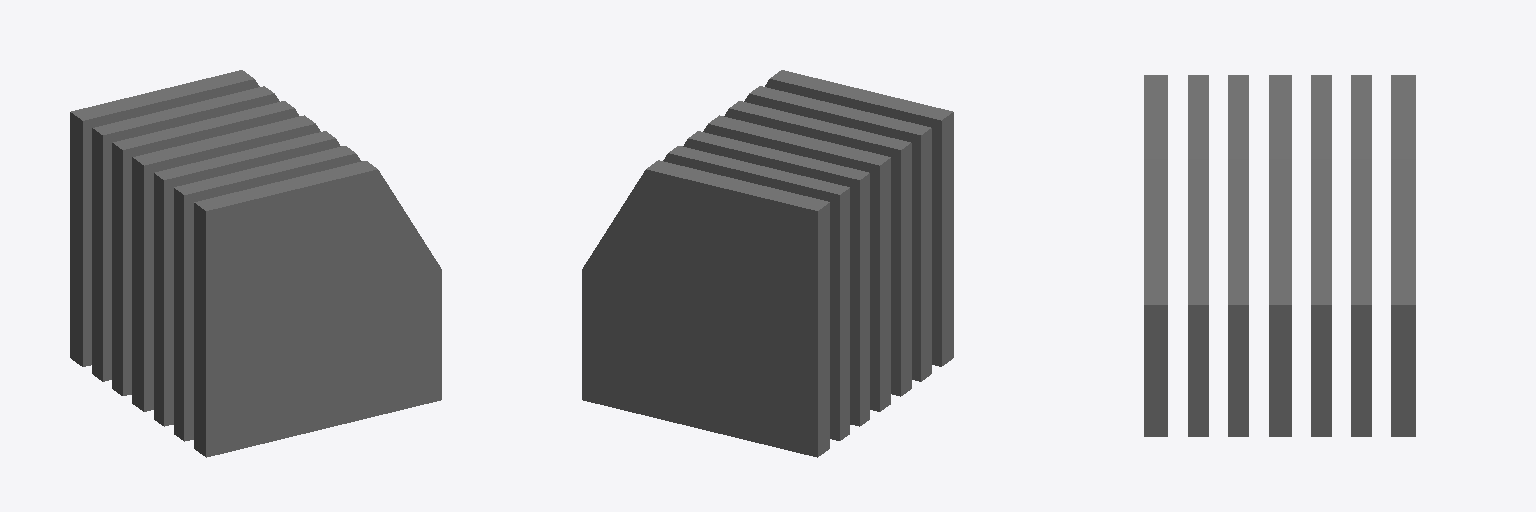
Rendered from wall_slices_full_straight_cut_type4.obj.
The picture shows the model from 3 angles: view 1: azimuth 30°, elevation 25°; view 2: azimuth 150°, elevation 25°; view 3: azimuth 270°, elevation 25°; orthographic projection.
Parts seen in each view (by area): view 1: wall_slices_full_straight_cut; view 2: wall_slices_full_straight_cut; view 3: wall_slices_full_straight_cut.
Boxes of the visible parts, x1=… form: wall_slices_full_straight_cut: x1=70, y1=70, x2=441, y2=457; wall_slices_full_straight_cut: x1=582, y1=70, x2=953, y2=457; wall_slices_full_straight_cut: x1=1144, y1=75, x2=1415, y2=436.
Size of the model in its own units: 2 by 2 by 2.